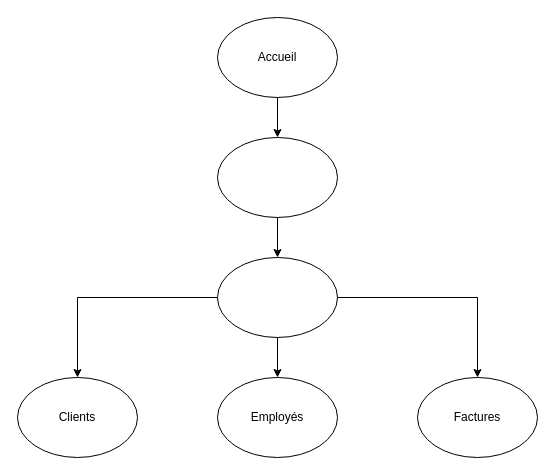
The diagram is 555 pixels wide and 475 high, and some of its shapes have lost their labels. Here are the shapes that lost their labels. From the top down, the centre of each, then its label:
[277,177]: Connexion
[277,297]: Home
